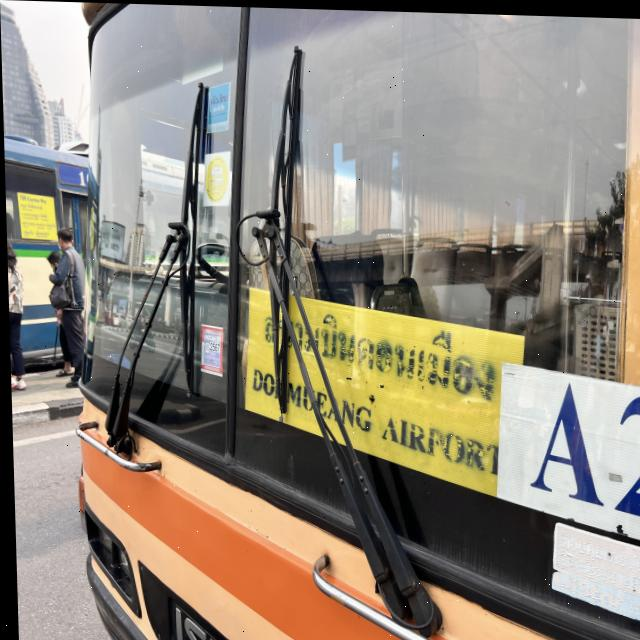BMTA-bus: (59, 1, 640, 640)
Destination-Sign-Normal-Expressway: (243, 285, 524, 512)
